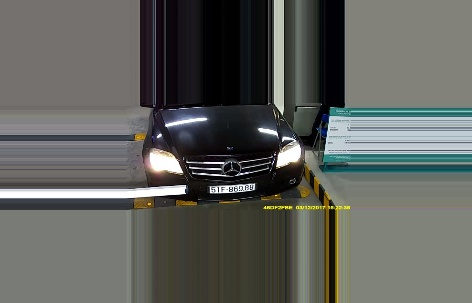plate: (206, 182, 256, 197)
